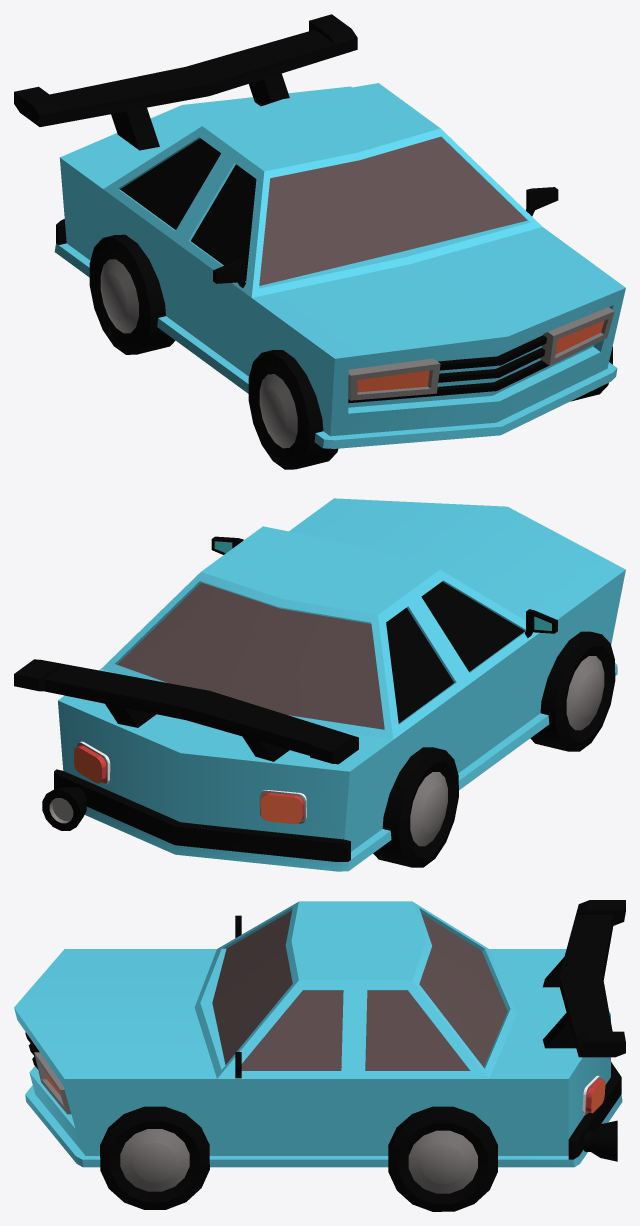
File: CAR 2 .fbx
3 renders of one model, top to bottom at view 1: azimuth 30°, elevation 25°; view 2: azimuth 150°, elevation 25°; view 3: azimuth 270°, elevation 25°, orthographic. The views are drawn at different scales.
Visible parts, largest first — view 1: Car_02, TYRE.004, TYRE.003; view 2: Car_02, TYRE.004, TYRE.003; view 3: Car_02, TYRE.002, TYRE.001.
Part boxes in pixels (x1,y1,x2,y2): Car_02: (14,14,625,448); TYRE.004: (89,234,175,354); TYRE.003: (248,350,338,469); Car_02: (14,498,625,871); TYRE.004: (373,747,458,867); TYRE.003: (530,631,615,751); Car_02: (14,900,625,1167); TYRE.002: (388,1106,497,1211); TYRE.001: (100,1106,209,1209).
Bounding box in the file's own units: 2.58 × 1.58 × 4.36.
